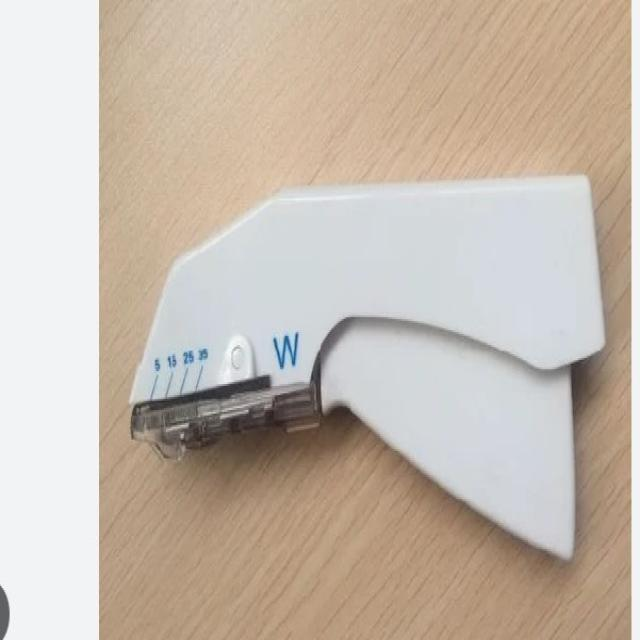Skin Stapler: (126, 161, 606, 567)
